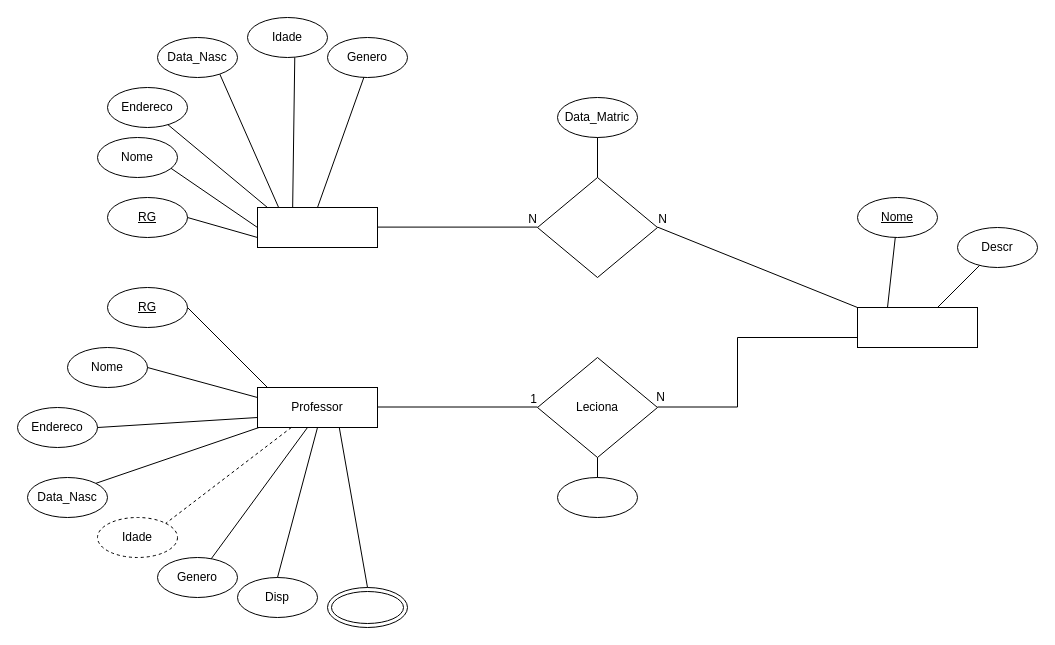
Image size: 1055x645. Some labels were removed from this diagram. Here are the shapes that lost their labels. From the top down, the centre of each, then its label:
At point (317, 227): "Aluno".
At point (597, 227): "Cursa".
At point (917, 327): "Curso".
At point (597, 497): "Data_Adm".
At point (367, 607): "Habil".
